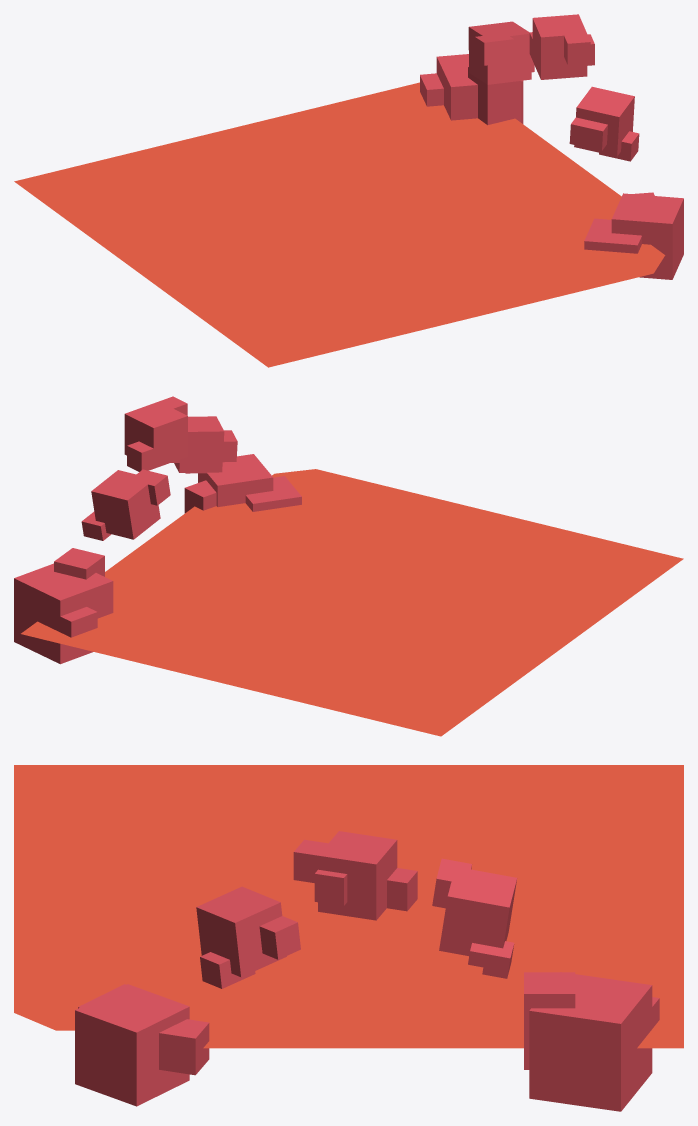
The model's file is tutorialsection2.glb.
3 renders of one model, top to bottom at view 1: azimuth 30°, elevation 25°; view 2: azimuth 150°, elevation 25°; view 3: azimuth 270°, elevation 25°, orthographic. The views are drawn at different scales.
Visible parts, largest first — view 1: Ground, Cliffs; view 2: Ground, Cliffs; view 3: Ground, Cliffs.
Boxes of the visible parts, bbox=[...] form: Ground: bbox=[14, 82, 665, 367]; Cliffs: bbox=[420, 14, 683, 279]; Ground: bbox=[21, 469, 683, 736]; Cliffs: bbox=[14, 396, 301, 664]; Ground: bbox=[14, 765, 683, 1048]; Cliffs: bbox=[75, 831, 659, 1111].
Bounding box in the file's own units: 23.14 × 8.3 × 21.63.
